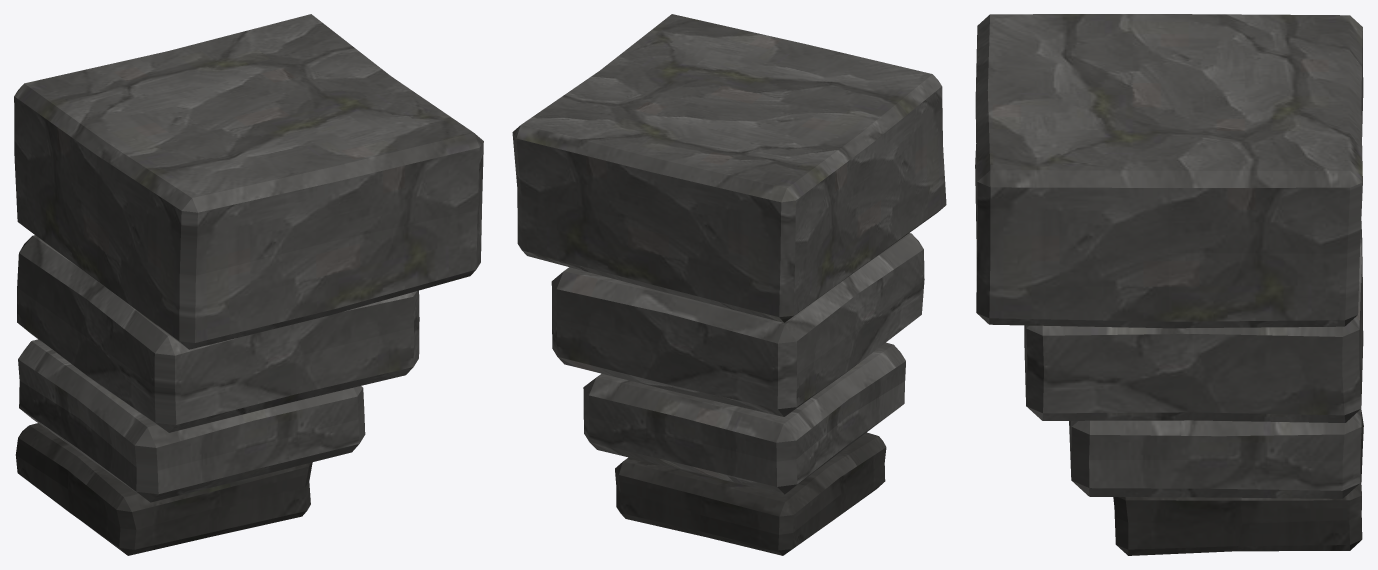
The model's file is cornice_corner__cut_stone.glb.
3 renders of one model, left to right at view 1: azimuth 30°, elevation 25°; view 2: azimuth 150°, elevation 25°; view 3: azimuth 270°, elevation 25°, orthographic. The views are drawn at different scales.
Visible parts, largest first — view 1: model; view 2: model; view 3: model.
Boxes of the visible parts, x1=… form: model: x1=14, y1=14, x2=483, y2=555; model: x1=512, y1=14, x2=946, y2=555; model: x1=975, y1=14, x2=1363, y2=555.
Size of the model in its own units: 0.3057 by 0.3868 by 0.3037.
Materials: 2 (2 with a texture image).
